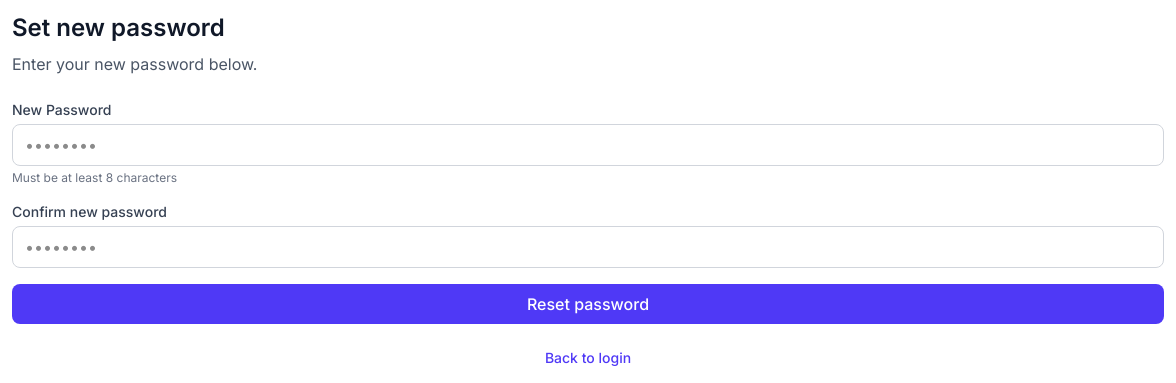
Test case: Reset Password Page › Form Submission › shows loading state during submission
This screenshot has width=1176, height=383.
Type "newpassword123" into the password field labelled "New Password" at (588, 145), box [12,124,1164,166]
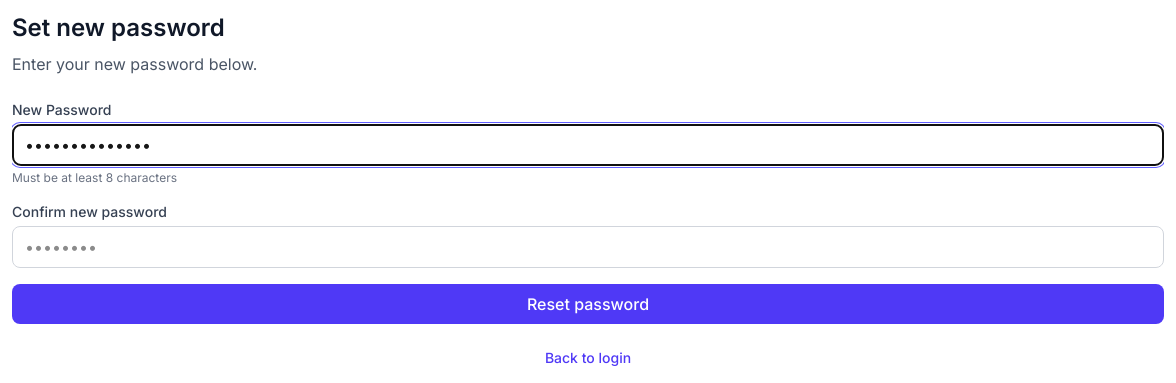
Type "newpassword123" into the password field labelled "Confirm new password" at (588, 247), box [12,226,1164,268]
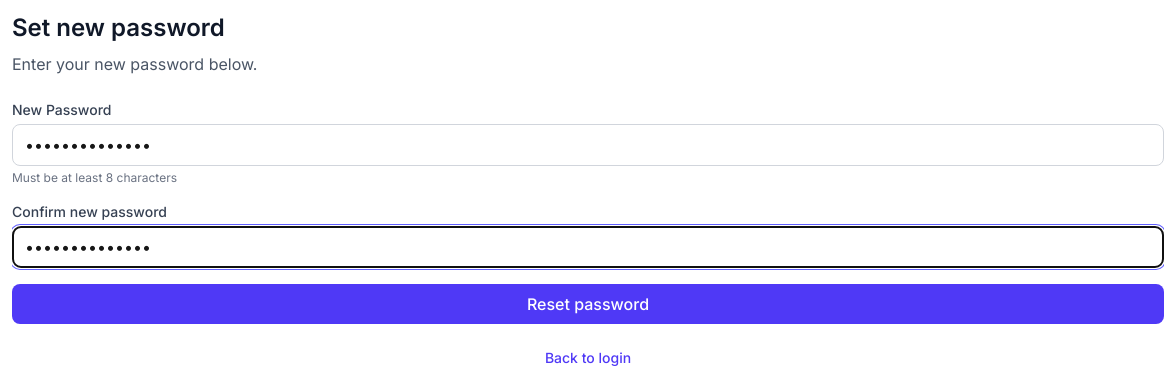
Click the button "Reset password" at (588, 304), box [12,284,1164,324]
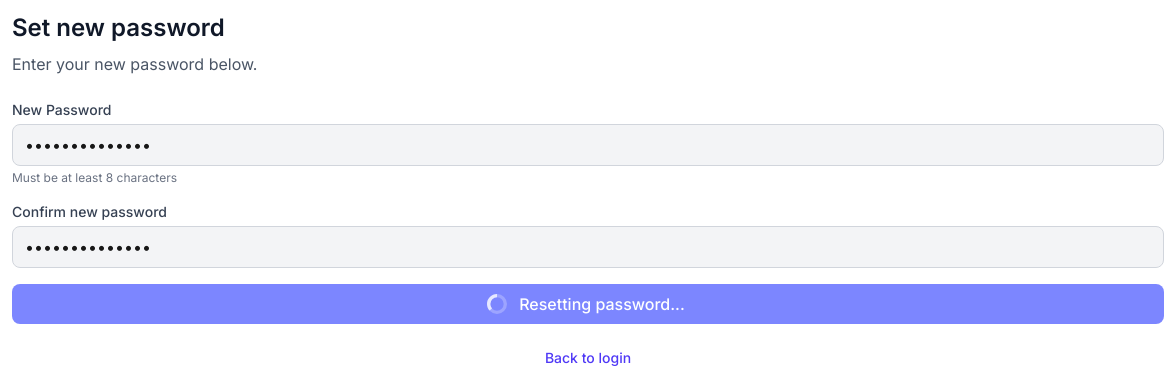
Now the text "Resetting password..." is shown, box [487,294,685,314]
